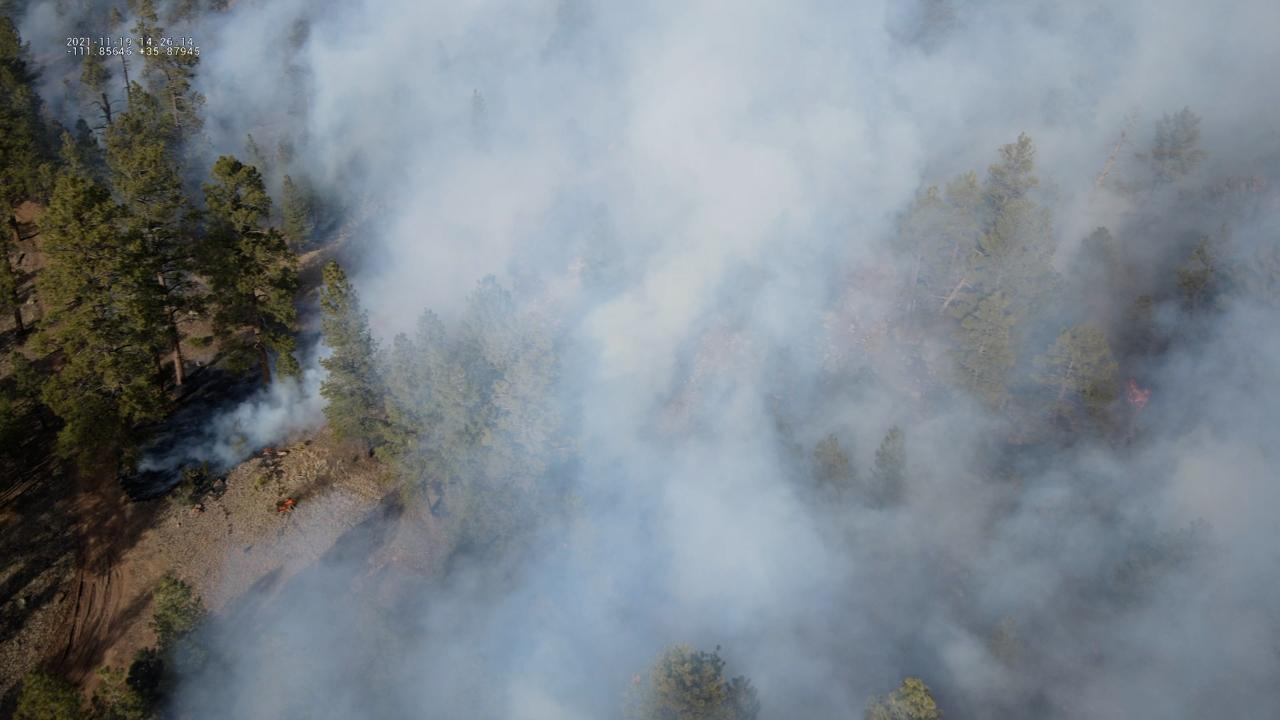fire: (1124, 376, 1152, 414), (277, 498, 297, 512), (261, 447, 273, 454)
smoke: (0, 0, 1280, 720)
